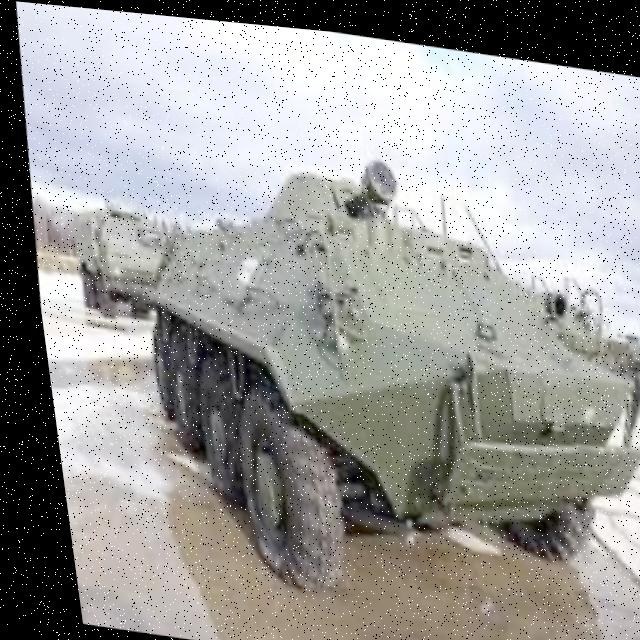MIL_APC: (80, 118, 640, 621)
